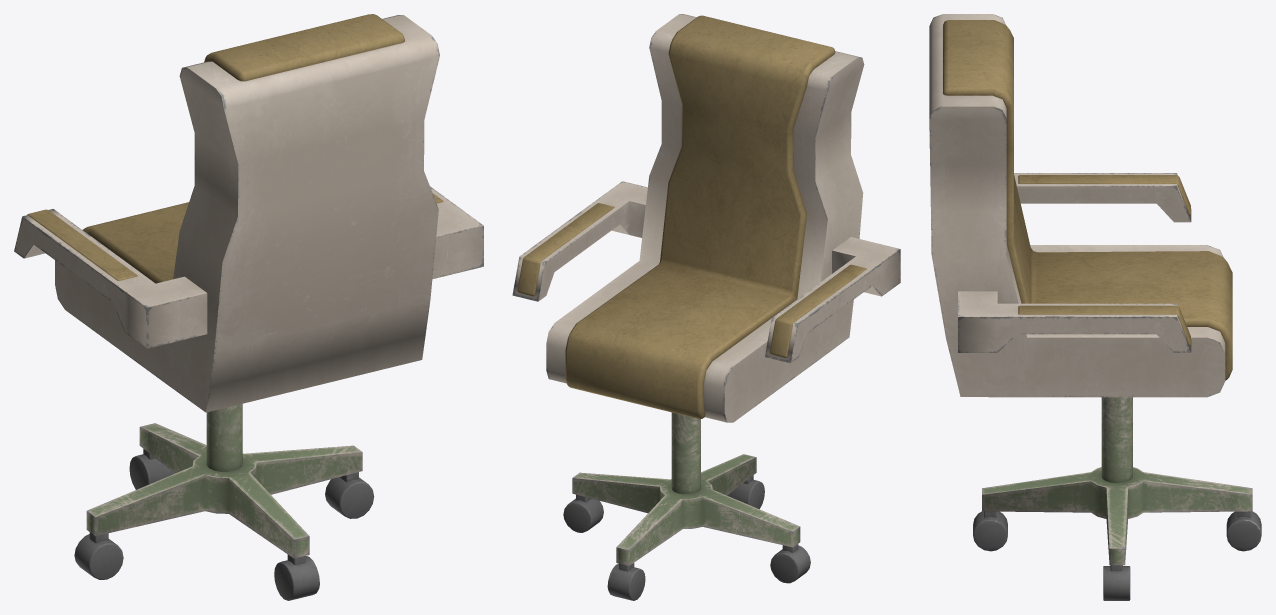
File: chair_small.glb
3 renders of one model, left to right at view 1: azimuth 30°, elevation 25°; view 2: azimuth 150°, elevation 25°; view 3: azimuth 270°, elevation 25°, orthographic. The views are drawn at different scales.
Visible parts, largest first — view 1: base_low.001, holder_low.001, pillow_low.001, handle_low.001, wheels_low.001; view 2: pillow_low.001, base_low.001, holder_low.001, handle_low.001, wheels_low.001; view 3: base_low.001, pillow_low.001, holder_low.001, handle_low.001, wheels_low.001.
Boxes of the visible parts, x1,y1,x2,y2 form: base_low.001: (55,15,439,412); holder_low.001: (86,404,362,558); pillow_low.001: (27,14,443,283); handle_low.001: (14,186,483,348); wheels_low.001: (74,449,374,600); pillow_low.001: (517,15,866,419); base_low.001: (546,14,864,422); holder_low.001: (572,412,800,565); handle_low.001: (512,181,900,363); wheels_low.001: (563,475,810,600); base_low.001: (929,14,1225,397); pillow_low.001: (943,20,1232,380); holder_low.001: (982,397,1252,565); handle_low.001: (958,173,1191,352); wheels_low.001: (973,511,1261,600).
Bounding box in the file's own units: 83.41 × 133 × 81.35.
Materials: 1 (1 with a texture image).
